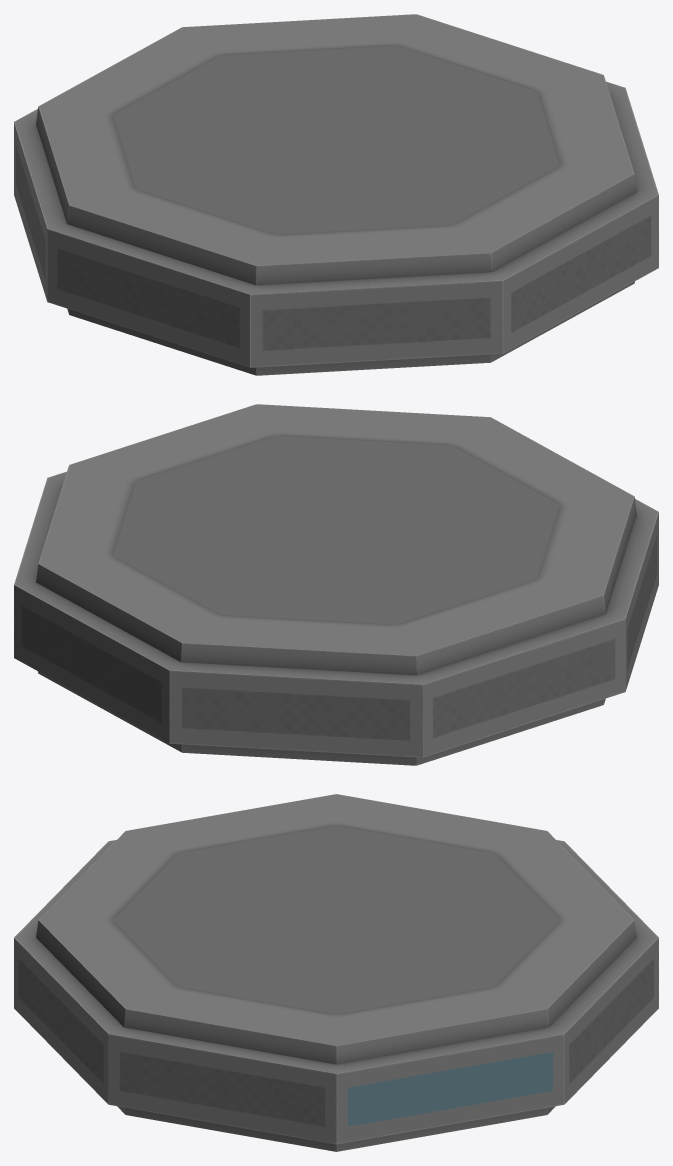
File: ProbodobodyneOKTO2.obj
3 views of the same model, one above another, from view 1: azimuth 30°, elevation 25°; view 2: azimuth 150°, elevation 25°; view 3: azimuth 270°, elevation 25° (orthographic). The views are drawn at different scales.
Parts seen in each view (by area): view 1: ProbodobodyneOKTO2_mesh; view 2: ProbodobodyneOKTO2_mesh; view 3: ProbodobodyneOKTO2_mesh.
Part boxes in pixels (<box>): ProbodobodyneOKTO2_mesh: <box>14,14,658,375</box>; ProbodobodyneOKTO2_mesh: <box>14,404,658,765</box>; ProbodobodyneOKTO2_mesh: <box>14,794,658,1151</box>.
Size of the model in its own units: 5.03 by 0.9112 by 5.03.
Materials: 1 (1 with a texture image).
